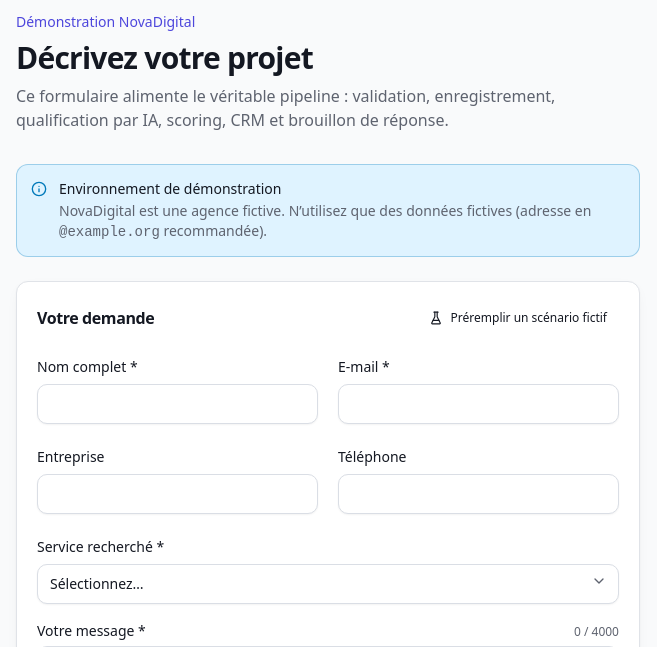
Formulaire /demo › préremplit le scénario fictif facultatif
This screenshot has width=657, height=647.
Click the button with test id "fill-sample" at x=518, y=318, box [416,302,619,334]
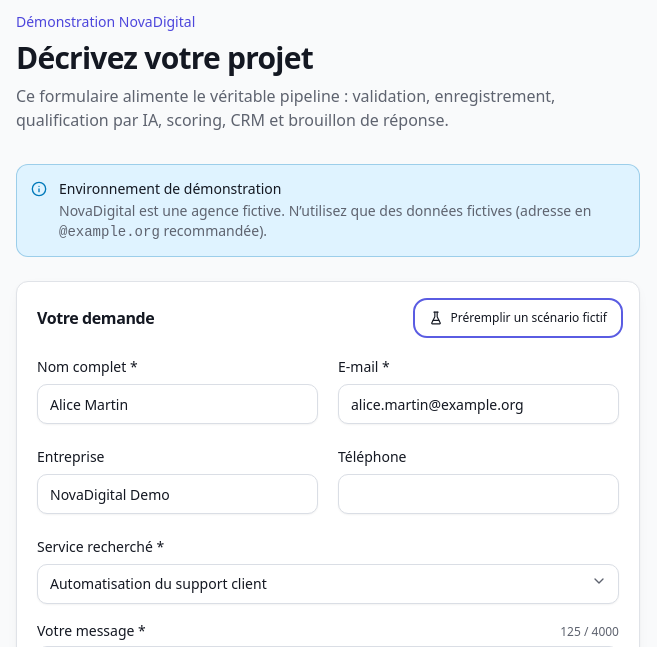
Expected: the field labelled "Nom complet *" holds "Alice Martin", [37,384,318,424]
Expected: the field labelled "E-mail *" holds "alice.martin@example.org", [338,384,619,424]
Expected: the dropdown labelled "Service recherché *" shows "Automatisation du support client", [37,564,619,604]
